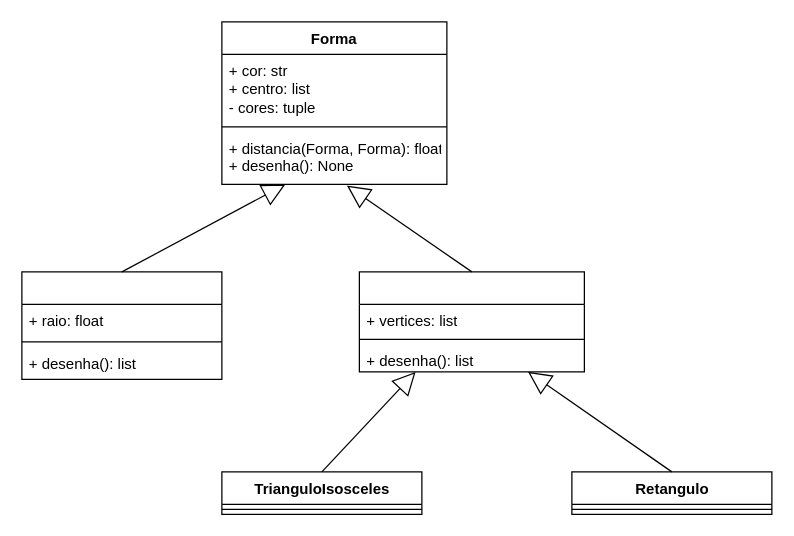
Image size: 794x536. Some labels were removed from this diagram. The shapes that lost their labels are listed below. From the top down, each one's box as (x1, y1, x2, y2) in pixels, then its label:
(21, 271, 222, 379): Circulo
(358, 271, 584, 372): Poligono
